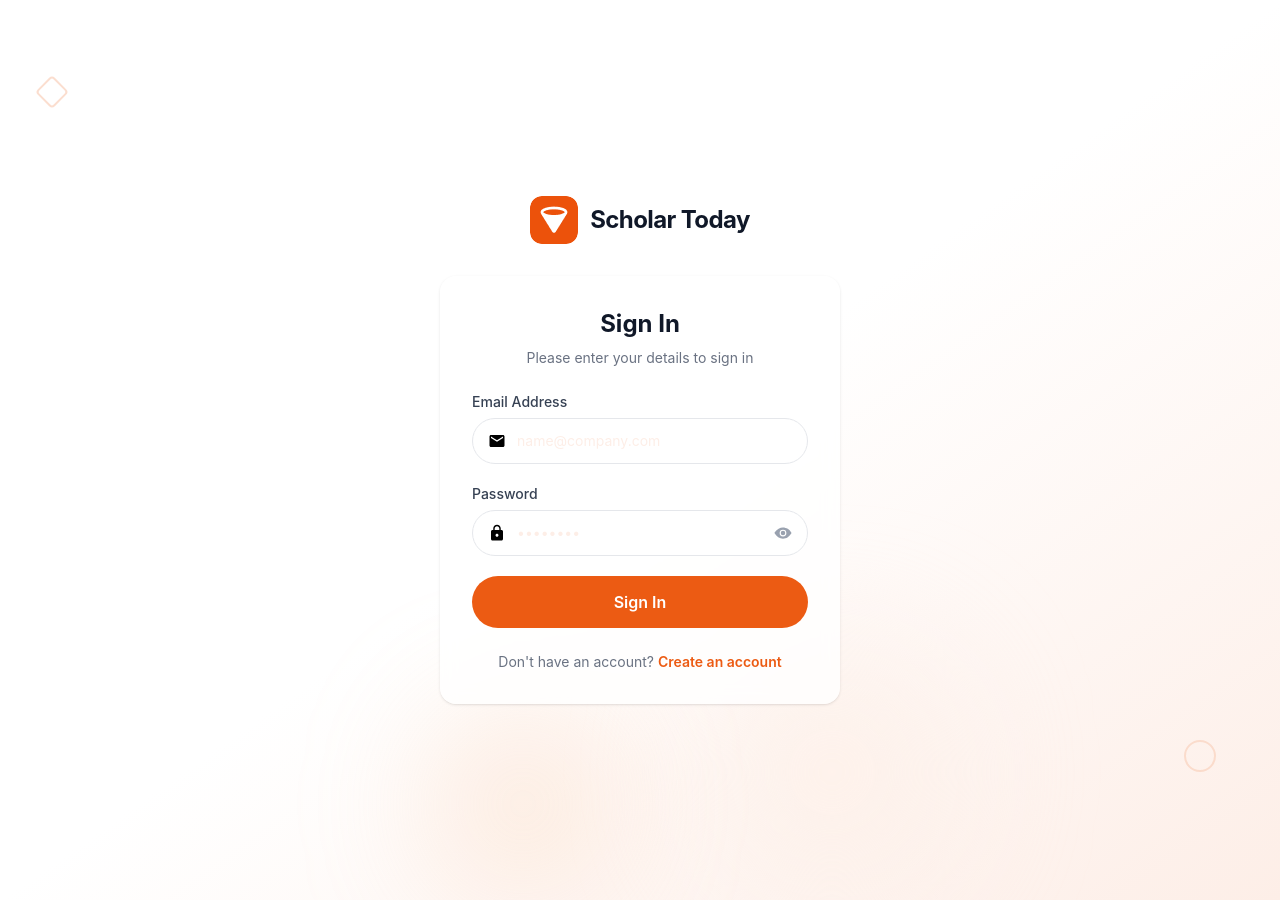
LoginPage › Validation › should show error messages when submitting empty form
The width and height of the screenshot is (1280, 900).
Click the button "Sign In" at (640, 602), box [472, 576, 808, 628]
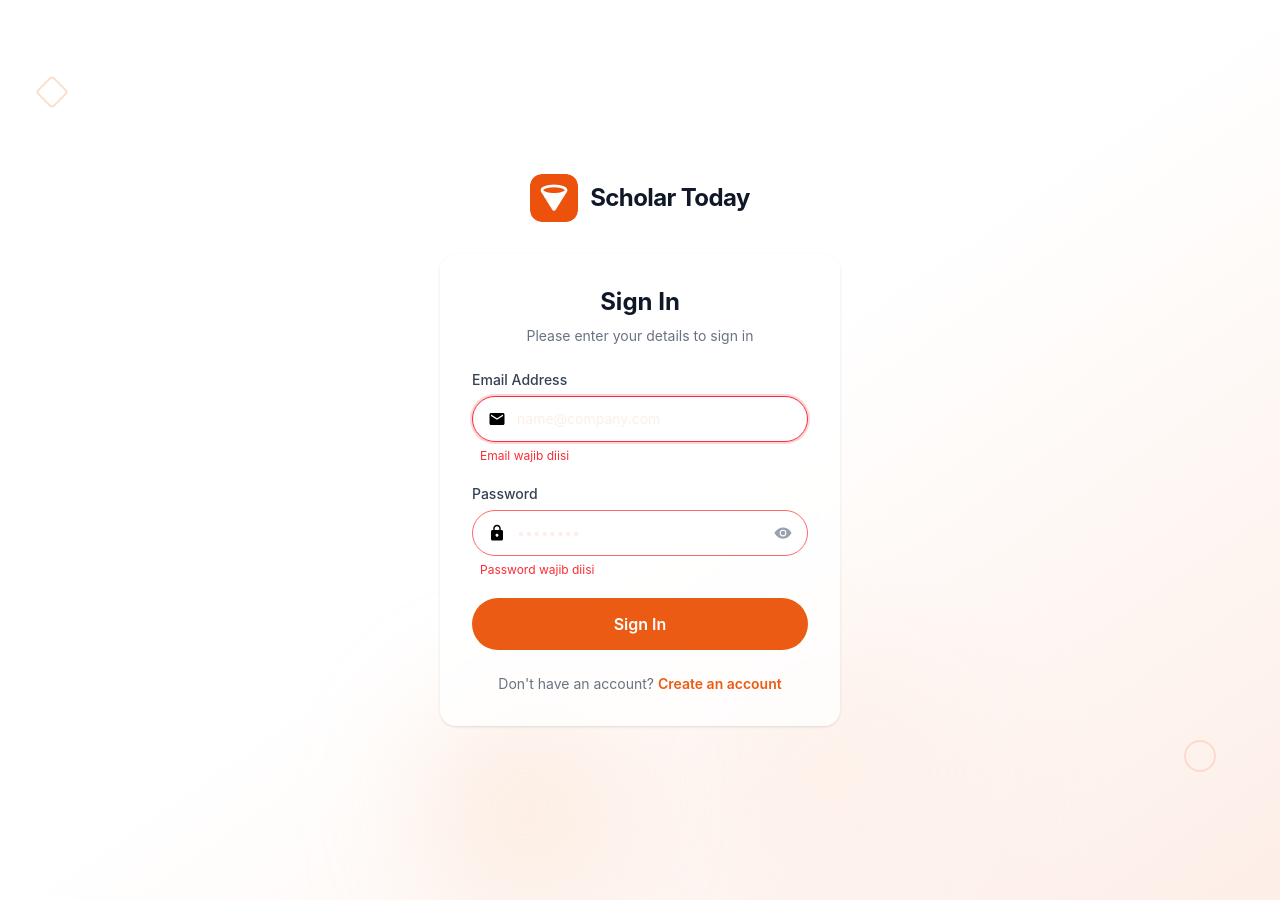
Check: the text "Email wajib diisi" is shown, box [480, 448, 569, 463]
Check: the text "Password wajib diisi" is shown, box [480, 562, 594, 577]
